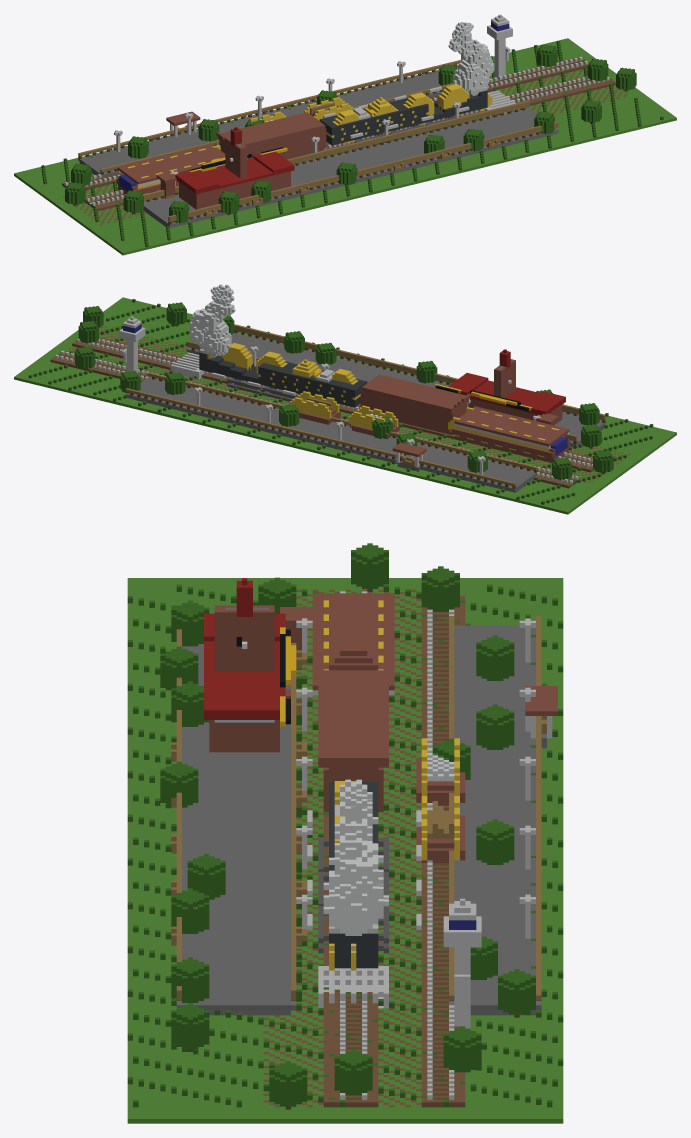
3 views of the same model, one above another, from view 1: azimuth 30°, elevation 25°; view 2: azimuth 150°, elevation 25°; view 3: azimuth 270°, elevation 25° (orthographic). The views are drawn at different scales.
Size of the model in its own units: 235 by 38 by 80.
